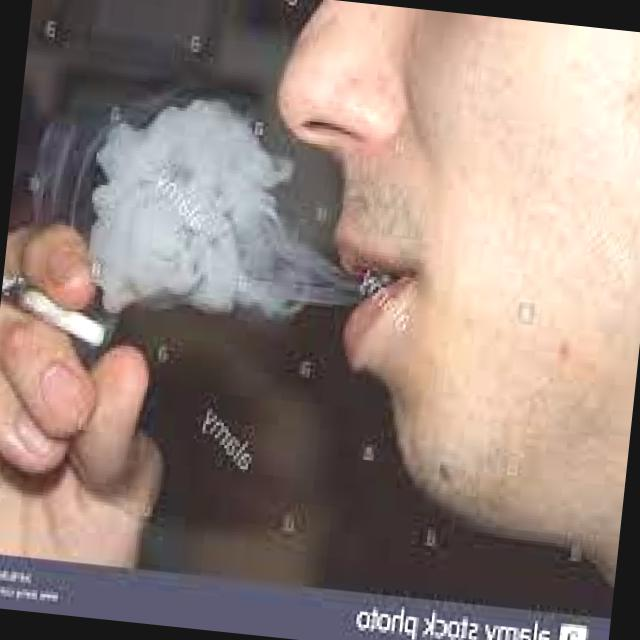smoke: (0, 272, 119, 353)
